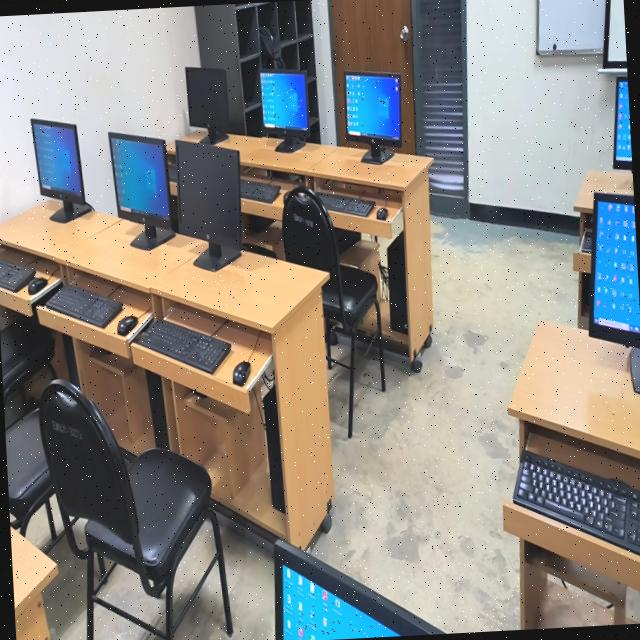Chair: (39, 380, 232, 640), (282, 187, 385, 437), (5, 410, 58, 544), (0, 318, 56, 428)
Cpu: (263, 386, 285, 512), (387, 231, 408, 334), (146, 370, 169, 450), (62, 334, 79, 387)
Keyboard: (513, 449, 640, 554), (137, 319, 231, 374), (45, 284, 122, 328), (316, 192, 375, 216), (0, 260, 36, 292), (240, 180, 280, 204)
Monitor: (274, 542, 446, 640), (177, 141, 242, 271), (109, 133, 176, 248), (593, 199, 640, 333), (31, 119, 92, 222), (345, 72, 402, 163), (260, 69, 309, 152), (185, 68, 230, 144), (613, 78, 633, 171)
Mouse: (117, 315, 138, 336), (233, 361, 250, 386), (27, 277, 47, 295), (376, 207, 388, 220)
